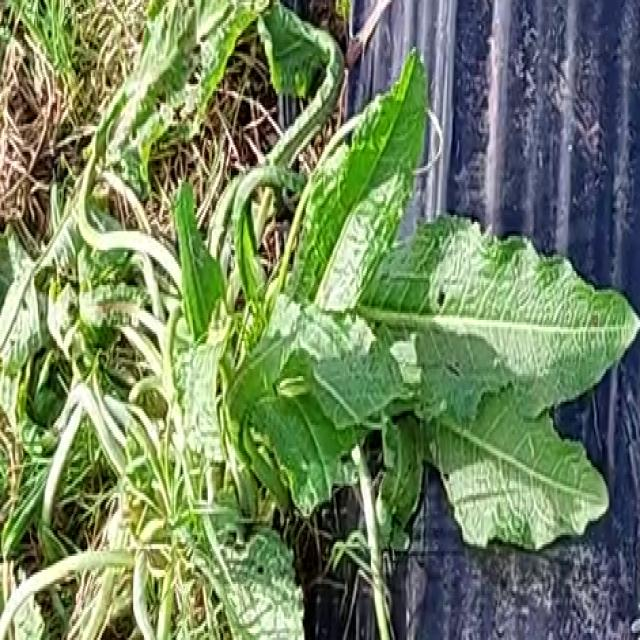organic waste: (20, 0, 640, 610)
